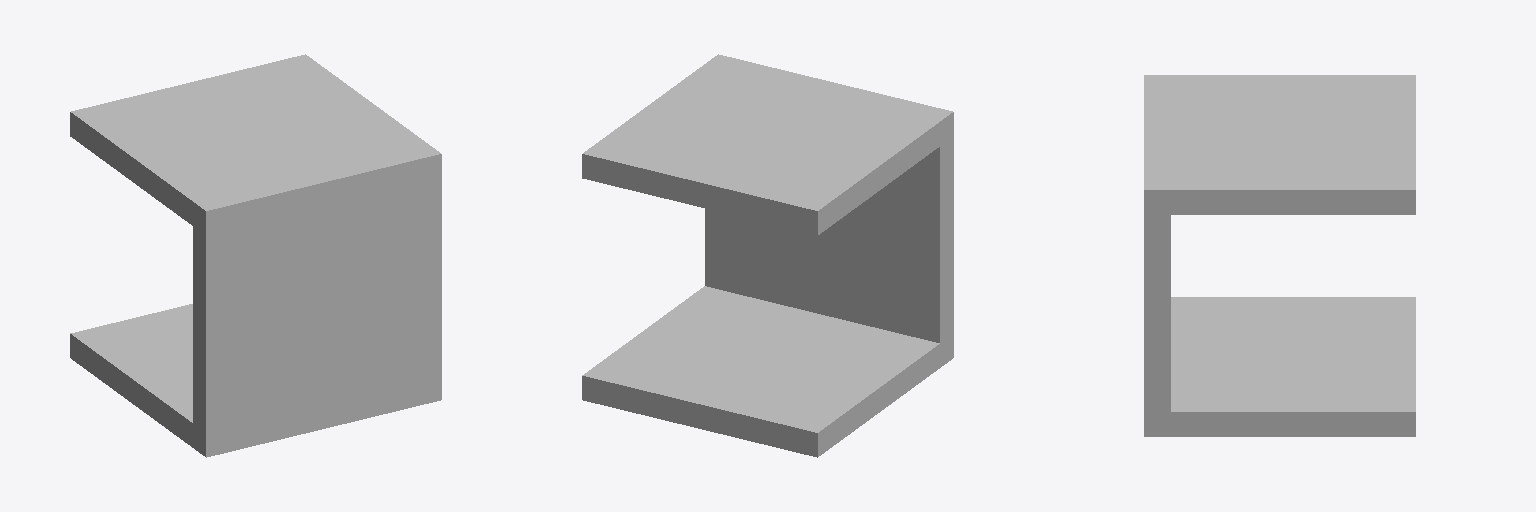
The model's file is pcity_nodes_shelf_1_middle.obj.
The picture shows the model from 3 angles: view 1: azimuth 30°, elevation 25°; view 2: azimuth 150°, elevation 25°; view 3: azimuth 270°, elevation 25°; orthographic projection.
Parts seen in each view (by area): view 1: Shelf_Middle; view 2: Shelf_Middle; view 3: Shelf_Middle.
Part boxes in pixels (bbox=[...]): Shelf_Middle: bbox=[70, 54, 441, 457]; Shelf_Middle: bbox=[582, 54, 953, 457]; Shelf_Middle: bbox=[1144, 75, 1415, 436].
Size of the model in its own units: 1 by 1 by 1.